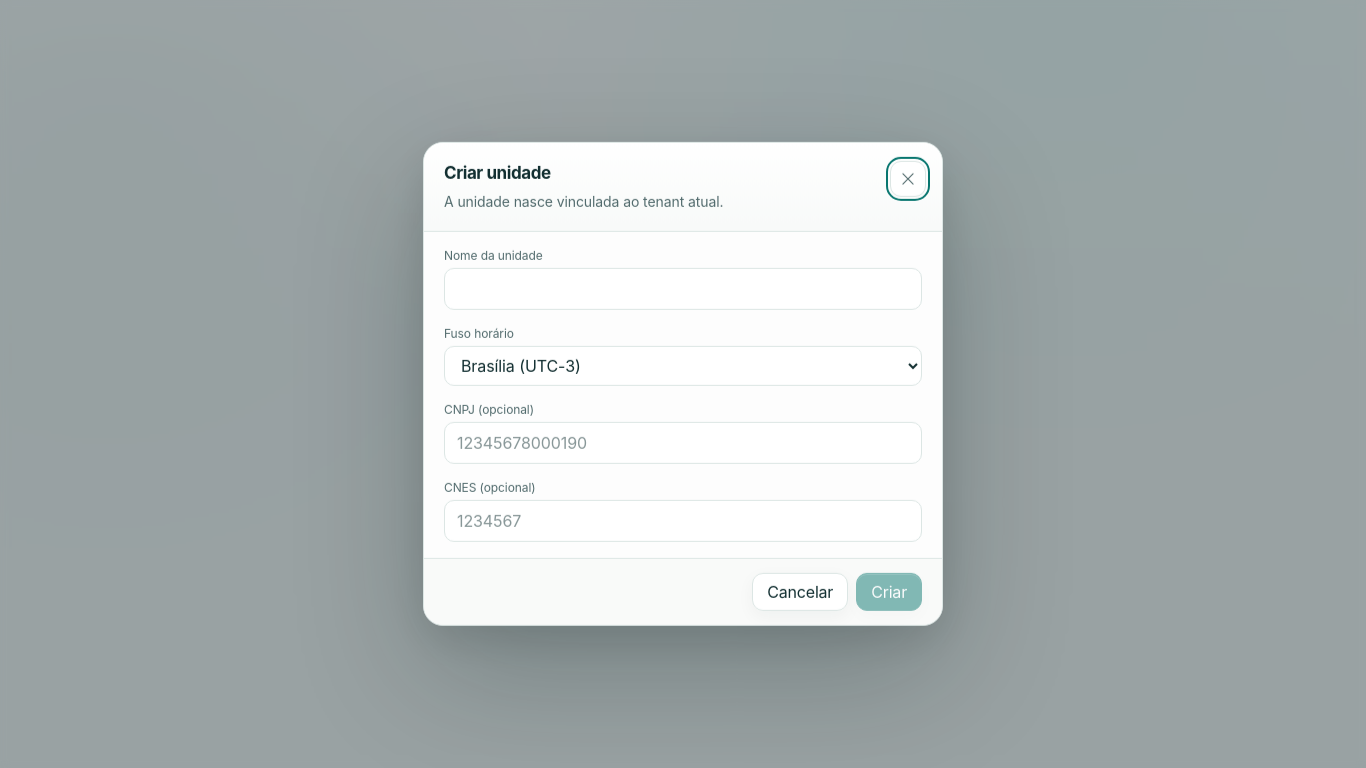
Test case: CriarClinica › exibe erro quando aoCriar rejeita
Step 1. Type "Filial Oeste" into the field labelled "Nome da unidade" → coordinates (683, 289), box left=444, top=268, right=922, bottom=310
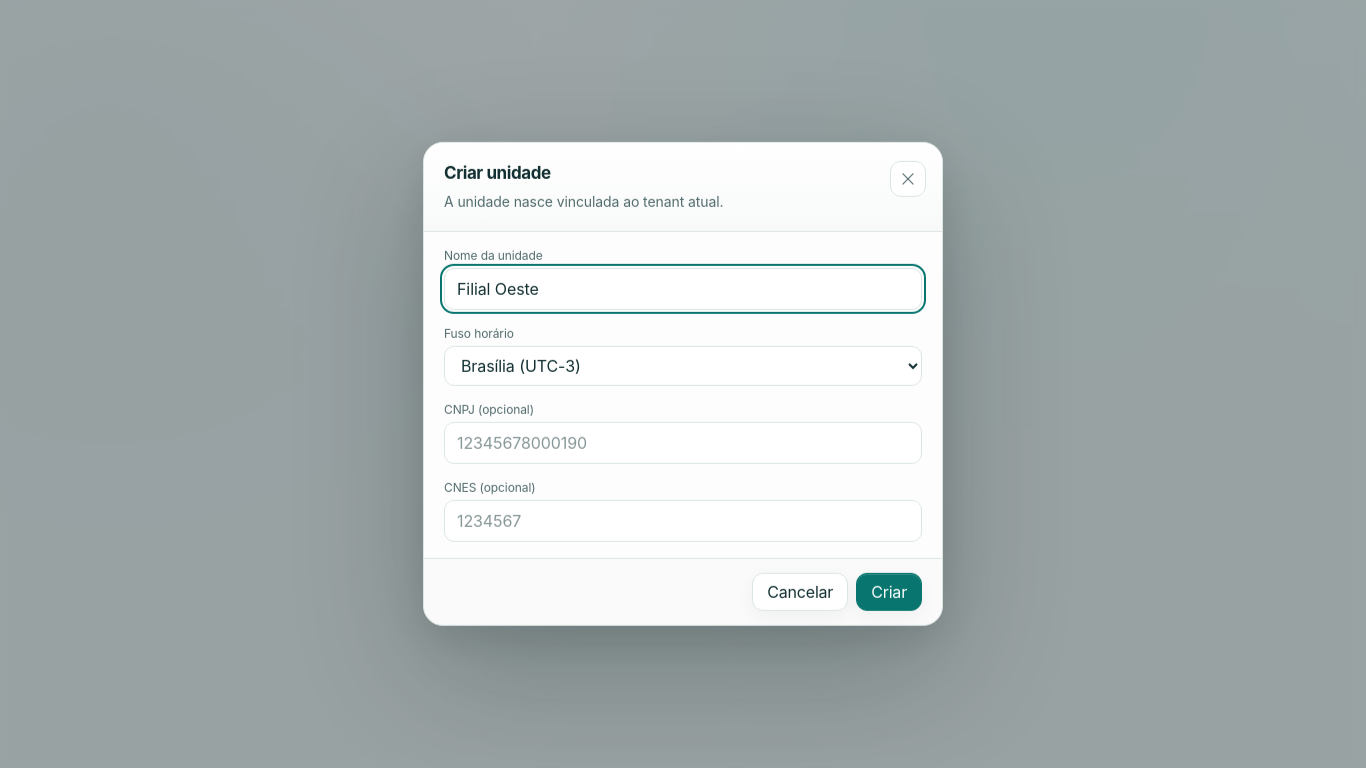
Step 2. Click the button "Criar" → coordinates (889, 592), box left=856, top=573, right=922, bottom=611
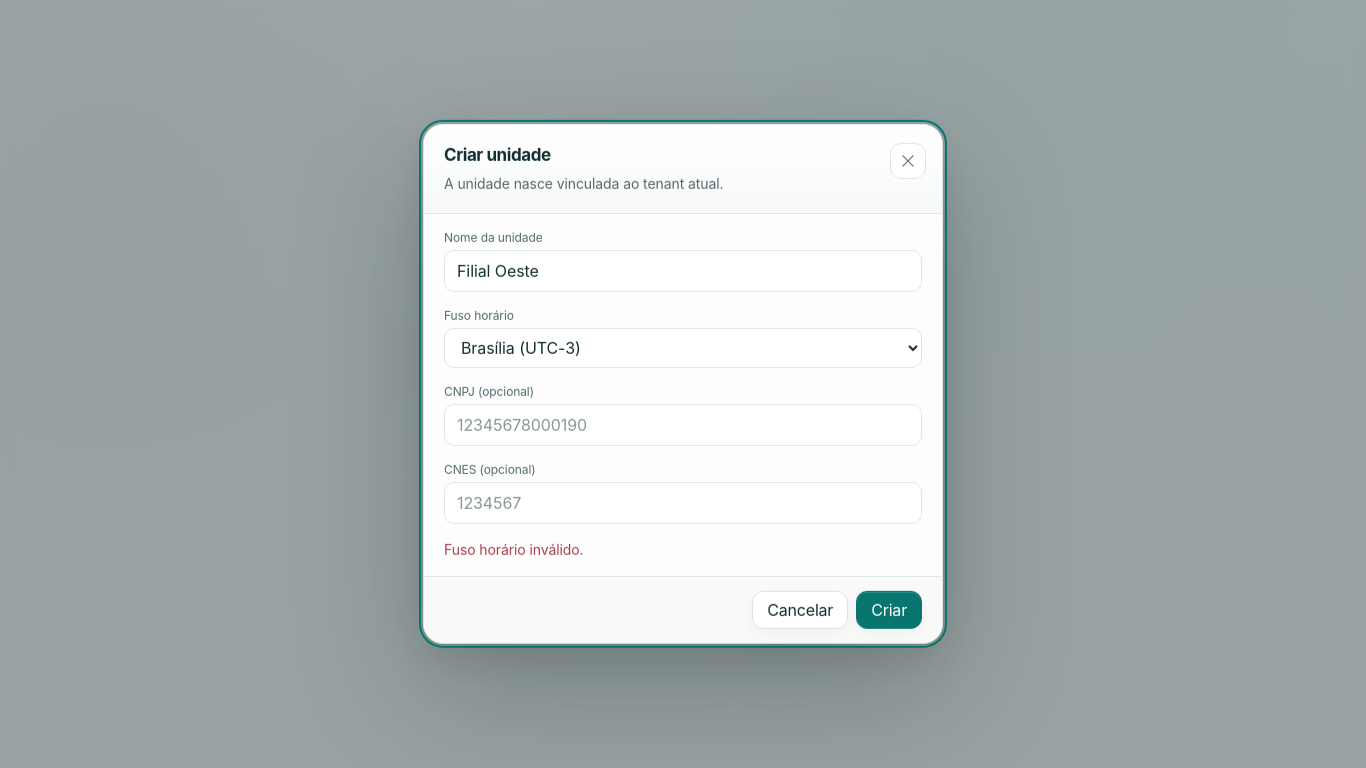
Expected: the message shows "Fuso horário inválido", left=444, top=541, right=584, bottom=558
